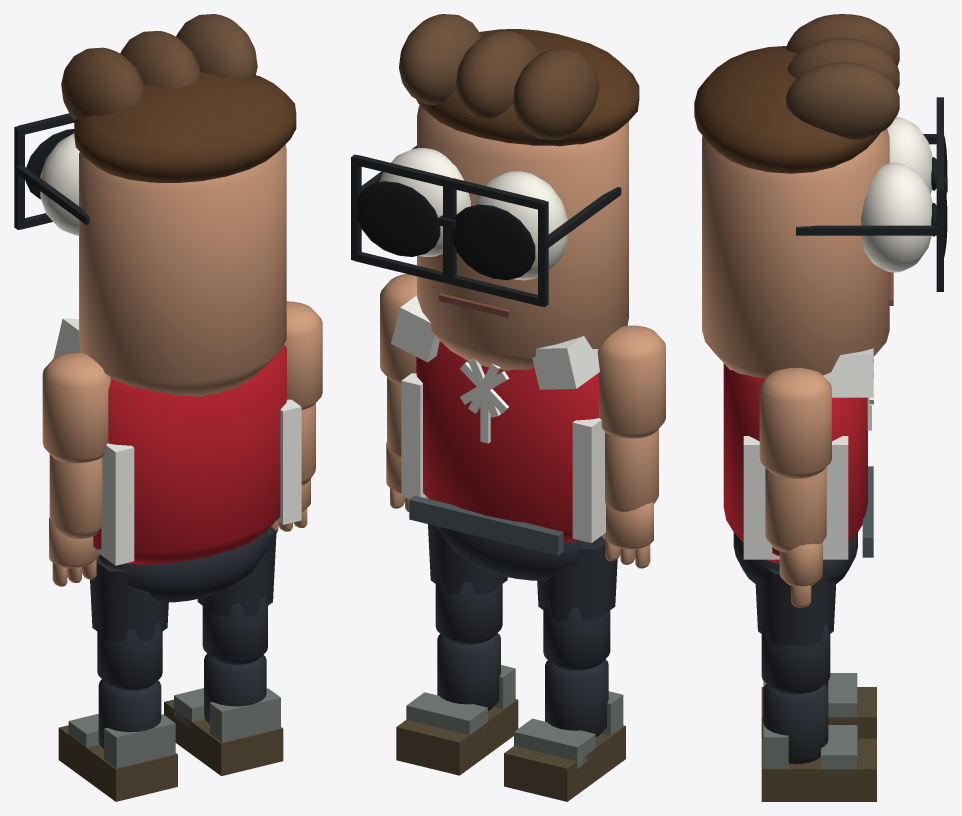
The model's file is spectator_7.glb.
3 views of the same model, side by side, from view 1: azimuth 30°, elevation 25°; view 2: azimuth 150°, elevation 25°; view 3: azimuth 270°, elevation 25° (orthographic). The views are drawn at different scales.
Visible parts, largest first — view 1: Head, RallySpectator, LeftShin, RightShin, LeftLeg, LeftArm, LeftForearm, RightLeg, RightArm, RightForearm; view 2: Head, RallySpectator, RightShin, LeftShin, LeftLeg, LeftArm, LeftForearm, RightLeg, RightArm, RightForearm; view 3: Head, RallySpectator, RightShin, RightLeg, RightArm, RightForearm, LeftShin.
Part boxes in pixels (left/top/right/bottom): Head: left=14, top=14, right=296, bottom=396; RallySpectator: left=53, top=318, right=301, bottom=602; LeftShin: left=58, top=679, right=177, bottom=801; RightShin: left=164, top=653, right=283, bottom=776; LeftLeg: left=90, top=557, right=168, bottom=690; LeftArm: left=42, top=353, right=110, bottom=463; LeftForearm: left=49, top=454, right=102, bottom=586; RightLeg: left=197, top=526, right=276, bottom=664; RightArm: left=284, top=301, right=322, bottom=409; RightForearm: left=270, top=403, right=315, bottom=533; Head: left=351, top=14, right=639, bottom=370; RallySpectator: left=391, top=295, right=605, bottom=580; RightShin: left=396, top=633, right=518, bottom=775; LeftShin: left=504, top=659, right=625, bottom=801; LeftLeg: left=537, top=540, right=617, bottom=670; LeftArm: left=597, top=325, right=665, bottom=438; LeftForearm: left=602, top=429, right=658, bottom=568; RightLeg: left=428, top=524, right=507, bottom=644; RightArm: left=380, top=274, right=416, bottom=383; RightForearm: left=386, top=377, right=428, bottom=511; Head: left=694, top=14, right=947, bottom=377; RallySpectator: left=723, top=348, right=873, bottom=583; RightShin: left=761, top=684, right=876, bottom=801; RightLeg: left=755, top=567, right=836, bottom=694; RightArm: left=759, top=368, right=831, bottom=478; RightForearm: left=765, top=467, right=826, bottom=607; LeftShin: left=761, top=673, right=876, bottom=738.
Size of the model in its own units: 0.87 by 2.21 by 0.7009.
